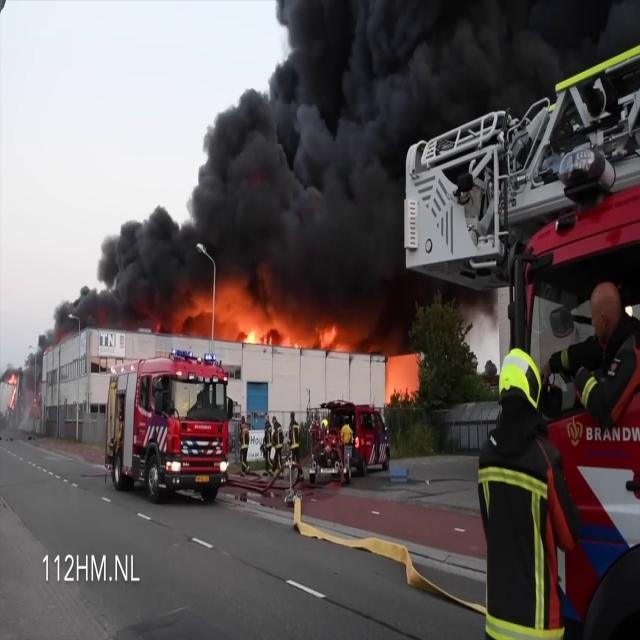Fire: (176, 286, 346, 352)
Smoke: (74, 0, 602, 331)
